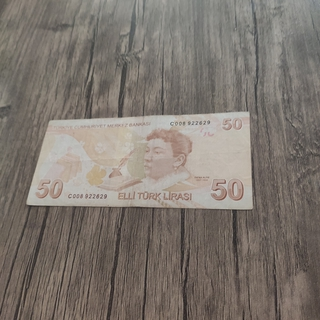50TLBack: (25, 110, 254, 210)
